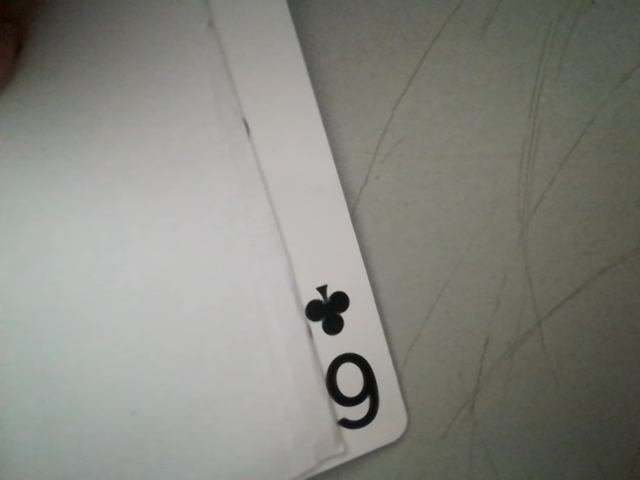mh 6: (298, 272, 396, 445)
